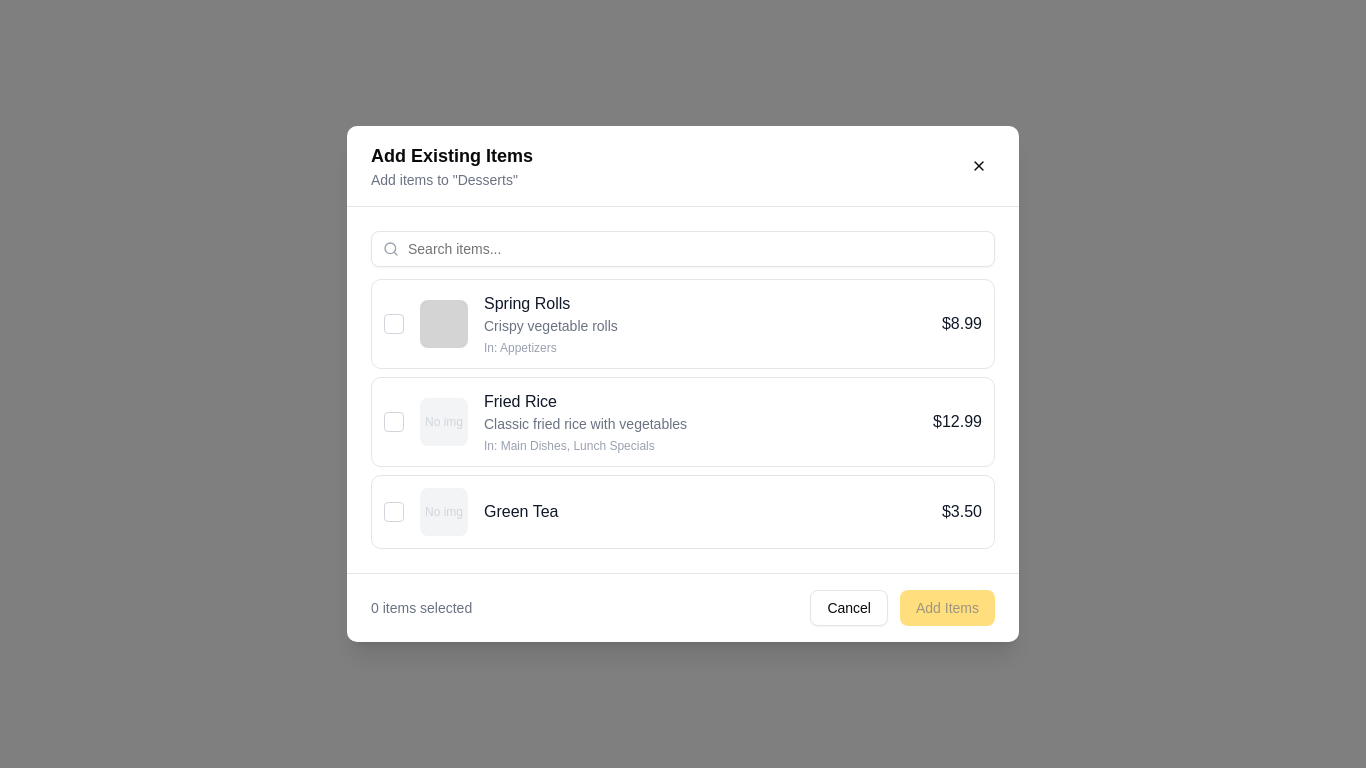
AddExistingItemModal › Selection › should select item when clicked
Expected: the text "Spring Rolls" is shown, [484, 295, 570, 312]
Click the button "Spring Rolls" at (444, 324), box [371, 279, 995, 369]
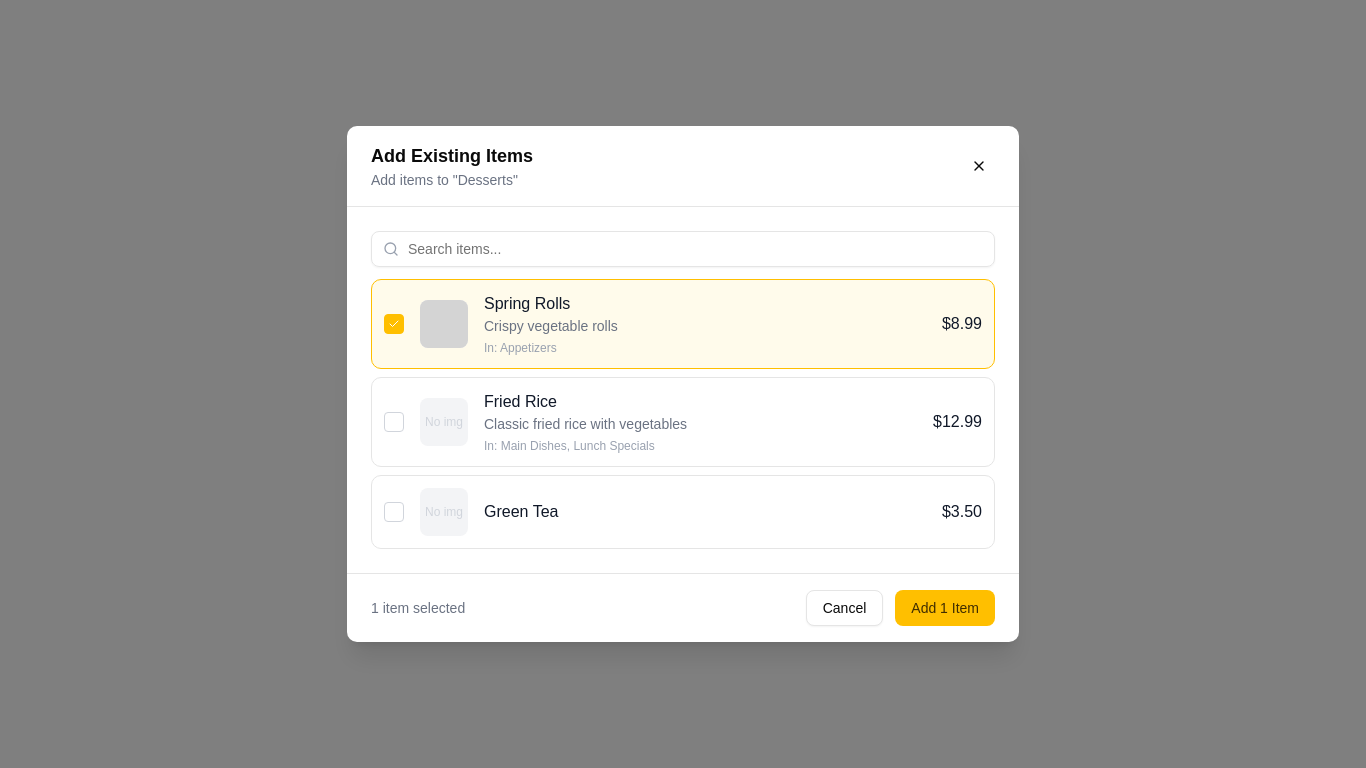
Now the text "1 item selected" is shown, box [371, 598, 465, 618]
